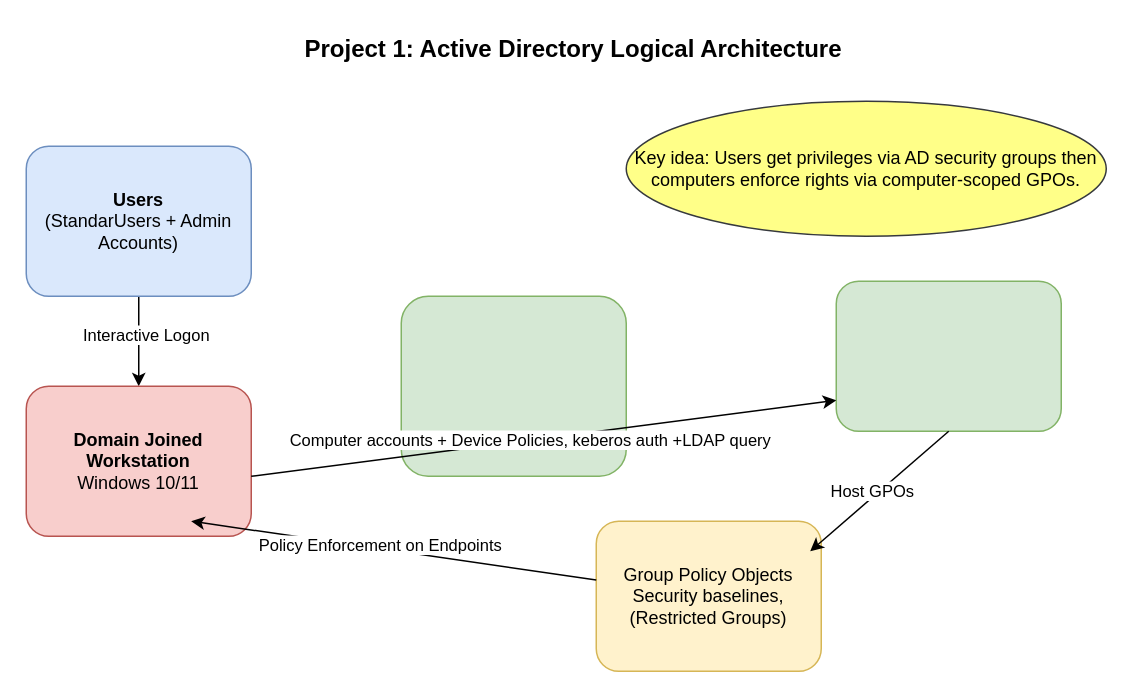
Some shapes in this 1133 by 698 pixel diagram are drawn without their labels. The centre of each missing label's shape, as x and y in pixels:
"Active Directory Domain hafsatsoc.lab" goes at point (513, 385).
"Domain Controller HaftechDC (ADDS+DNS)" goes at point (948, 355).
